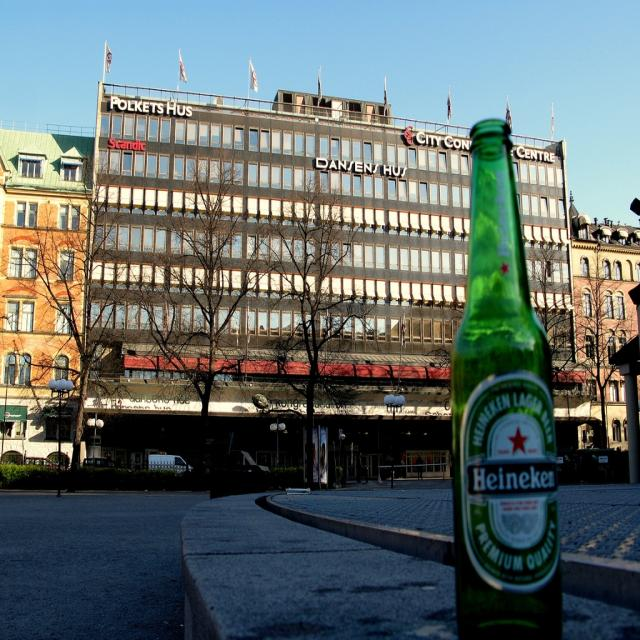heineken: (460, 371, 562, 594)
